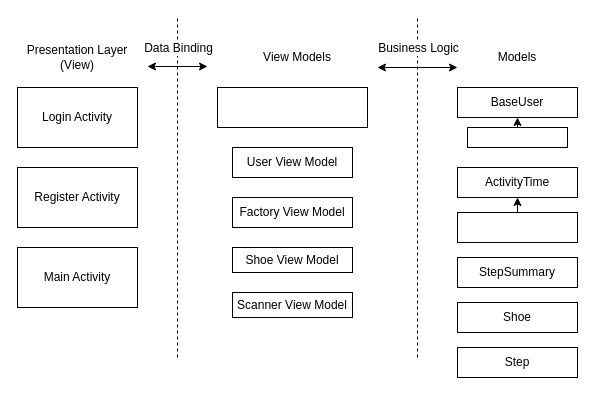
Some shapes in this 595 by 395 pixel diagram are drawn without their labels. The shapes that lost their labels are listed below. From the top down, each one's centre as x and y in pixels, then its label:
At point (292, 107): "StepSummary View Model".
At point (517, 137): "User".
At point (517, 227): "ActivityHour".
